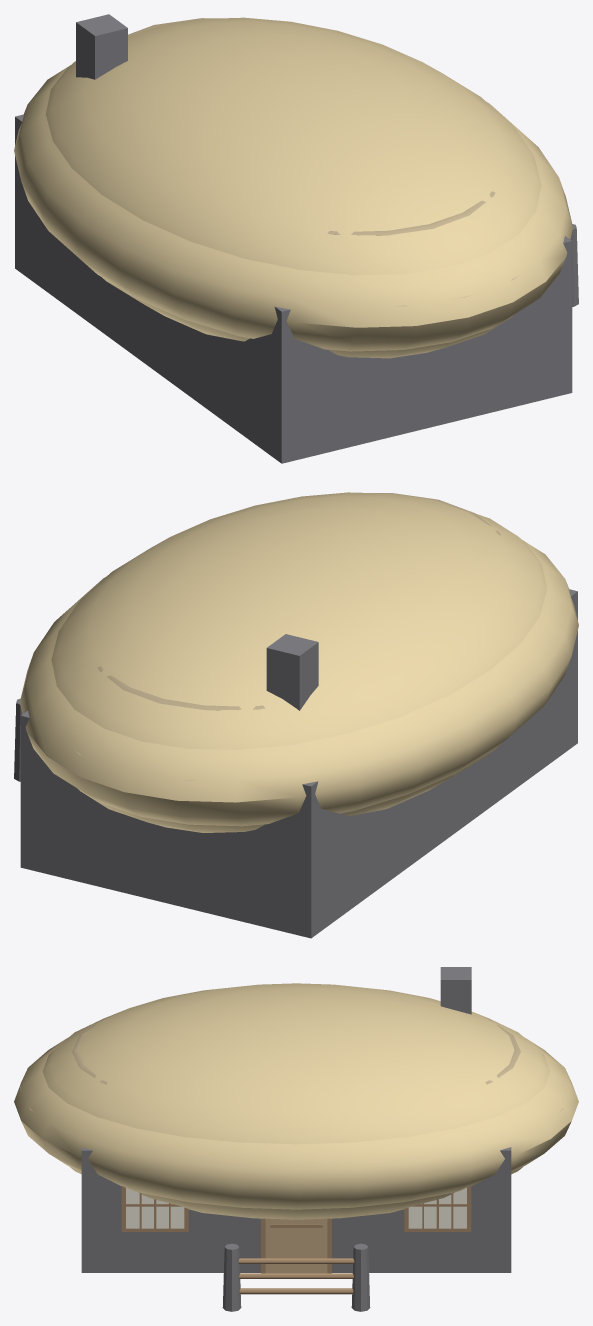
File: JHouse_Thatch_A.fbx
3 renders of one model, top to bottom at view 1: azimuth 30°, elevation 25°; view 2: azimuth 150°, elevation 25°; view 3: azimuth 270°, elevation 25°, orthographic. The views are drawn at different scales.
Parts seen in each view (by area): view 1: JHouse_Thatch_A; view 2: JHouse_Thatch_A; view 3: JHouse_Thatch_A.
Part boxes in pixels (left/top/right/bottom): JHouse_Thatch_A: left=14, top=14, right=578, bottom=463; JHouse_Thatch_A: left=14, top=492, right=578, bottom=938; JHouse_Thatch_A: left=14, top=967, right=578, bottom=1311.
Bounding box in the file's own units: 7 × 3.75 × 9.2.
